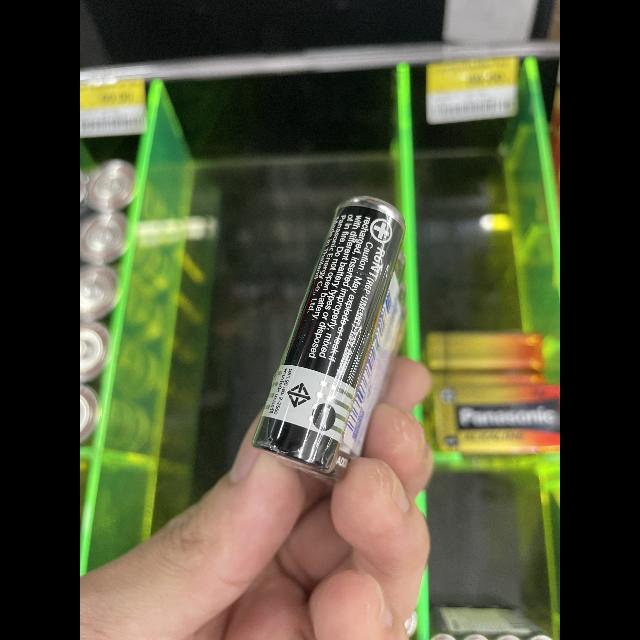battery: (252, 180, 408, 478)
